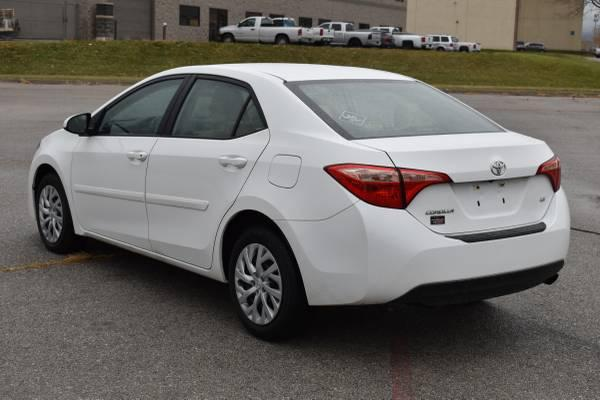Front_Fender: (30, 125, 83, 232)
Front_Left_Door: (73, 137, 161, 257)
Front_Left_Window: (82, 72, 196, 137)
Rear_Bumper: (276, 188, 571, 307)
Rear_Fender: (229, 130, 394, 223)
Rear_Left_Door: (145, 130, 268, 282)
Rear_Left_Window: (162, 75, 272, 142)
Rear_Windshield: (288, 78, 513, 143)
Right_Headlight: (323, 163, 453, 209)
Right_Taillight: (536, 153, 560, 193)
Roof: (97, 61, 418, 139)
Tailgate: (355, 131, 555, 233)
Wheel: (222, 220, 301, 330), (34, 177, 68, 251)
